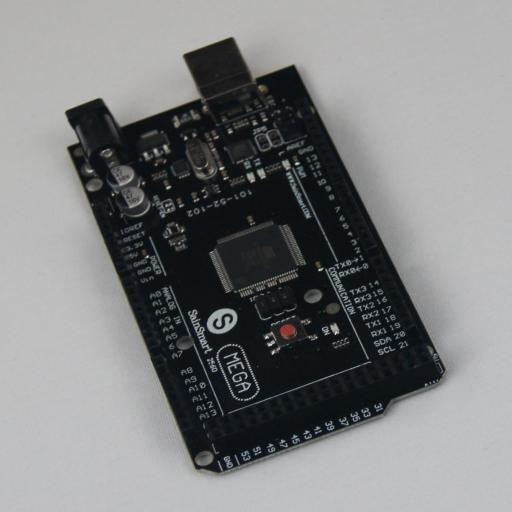Arduino Mega 2560 -Black-: (65, 38, 445, 474)
